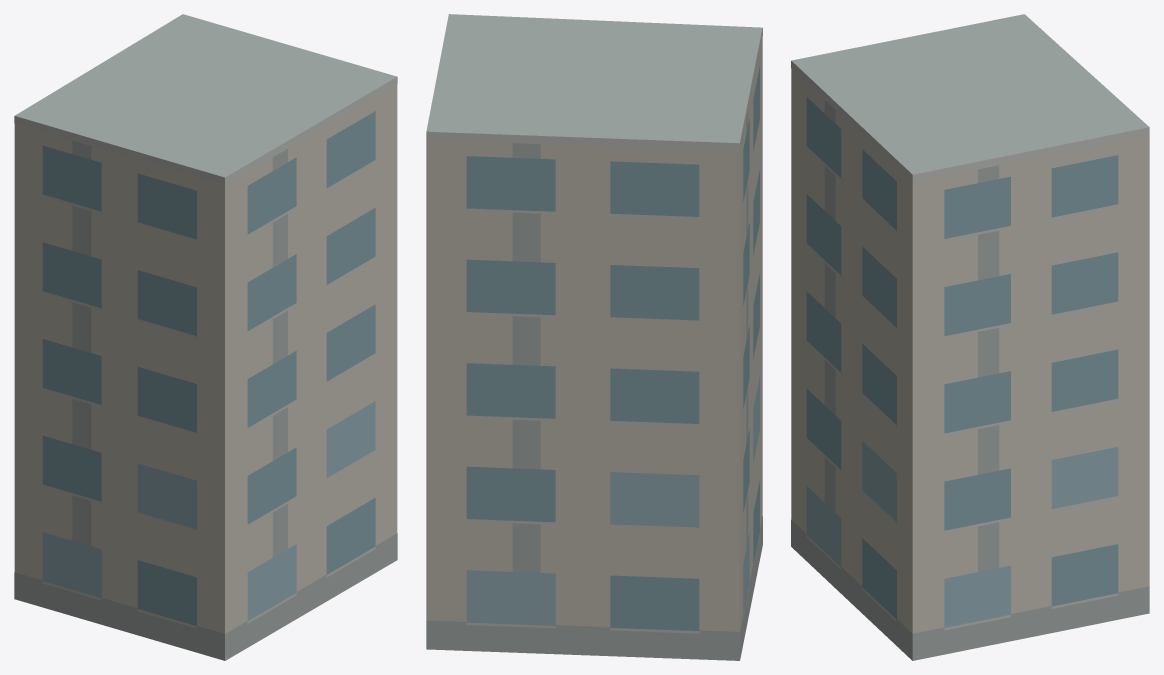
Rendered from survey-upis-32696442.glb.
3 renders of one model, left to right at view 1: azimuth 30°, elevation 25°; view 2: azimuth 150°, elevation 25°; view 3: azimuth 270°, elevation 25°, orthographic. The views are drawn at different scales.
Parts seen in each view (by area): view 1: survey-upis-32696442.tmp; view 2: survey-upis-32696442.tmp; view 3: survey-upis-32696442.tmp.
Part boxes in pixels (box(x1,y1,x2,y2)): survey-upis-32696442.tmp: box(14, 14, 397, 660); survey-upis-32696442.tmp: box(426, 14, 762, 660); survey-upis-32696442.tmp: box(791, 14, 1149, 660).
Size of the model in its own units: 10.82 by 15.25 by 10.2.
